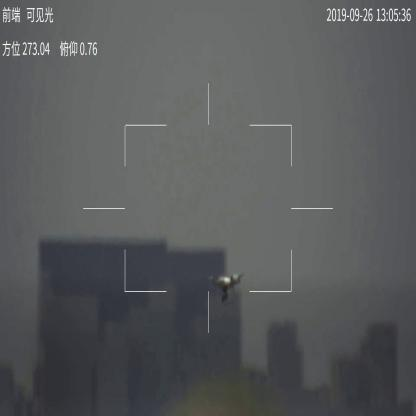uav: (206, 270, 248, 304)
